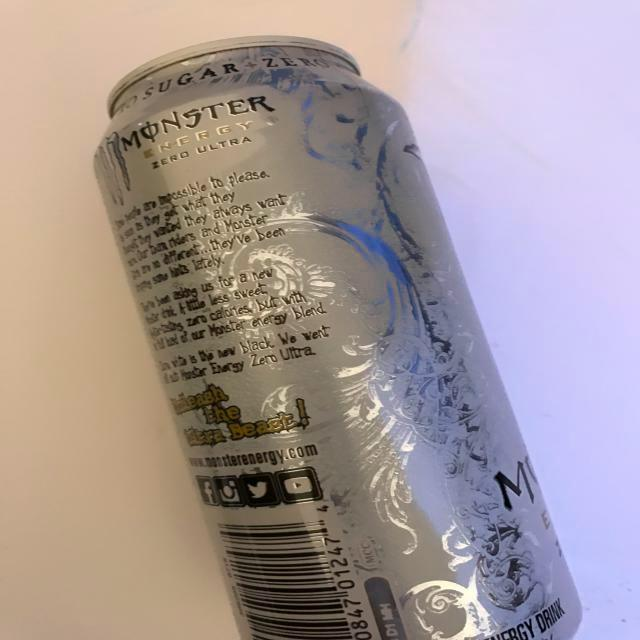metal: (87, 38, 598, 640)
